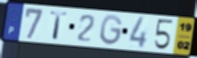2: (76, 14, 96, 43)
4: (128, 16, 149, 50)
5: (153, 18, 176, 51)
7: (23, 6, 45, 40)
G: (99, 14, 124, 47)
T: (49, 10, 69, 41)
